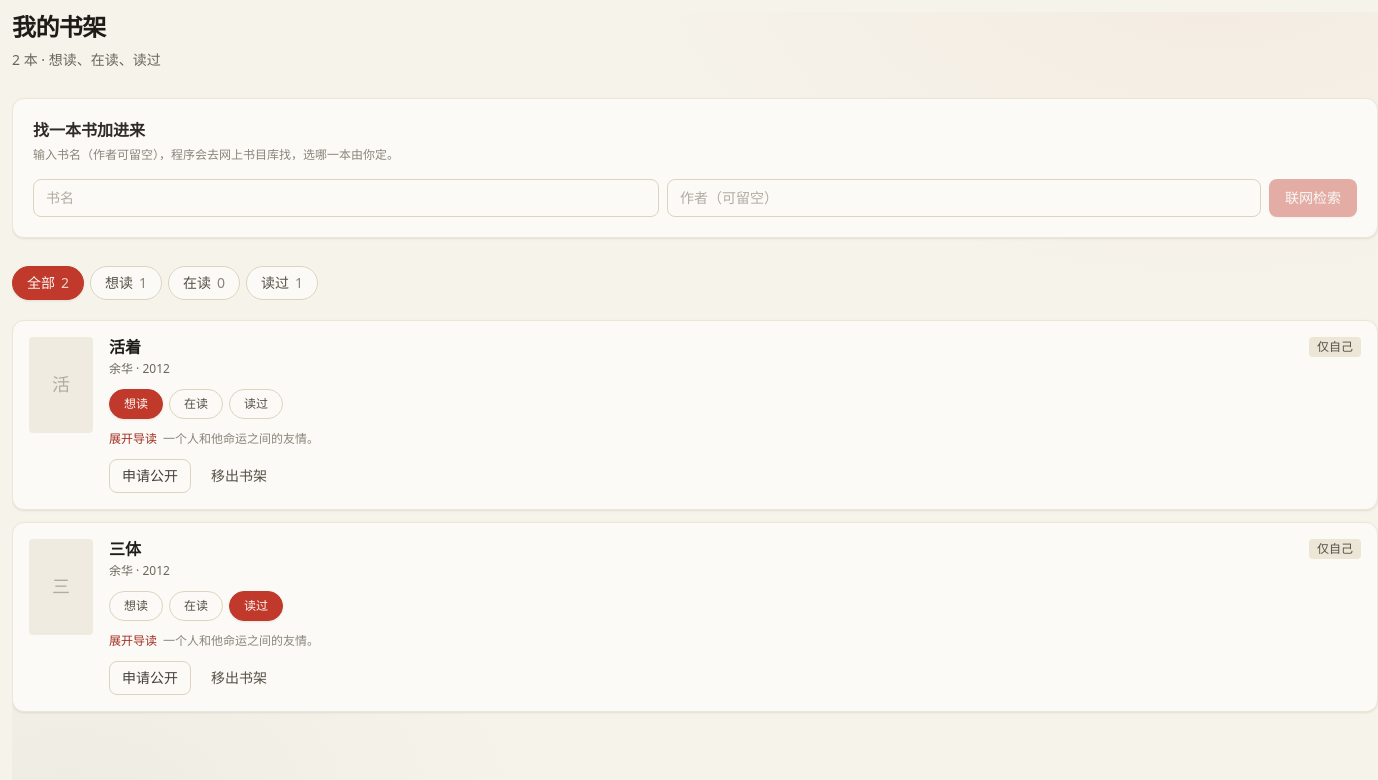
Test: 我的书架 › 按状态筛选，本地过滤不重新请求
Check: the heading "活着" is shown, box [109,337,141,359]
What coordinates should you click on to do the following:
click the button "读过 1"
I would click on:
 (282, 283)
Its box is [246,266,318,300].
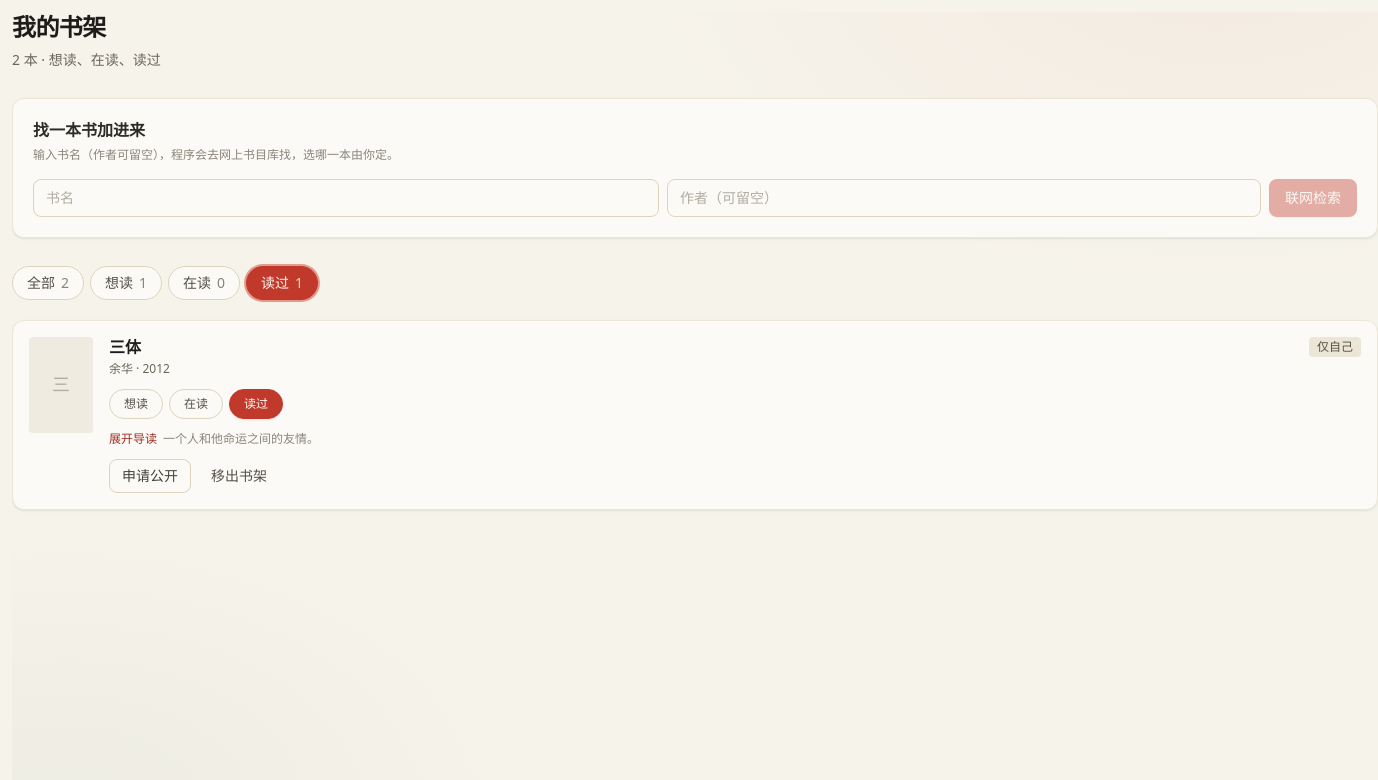
Check: the heading "三体" is shown, box [109,337,141,359]
Check: the button "活着" is gone
